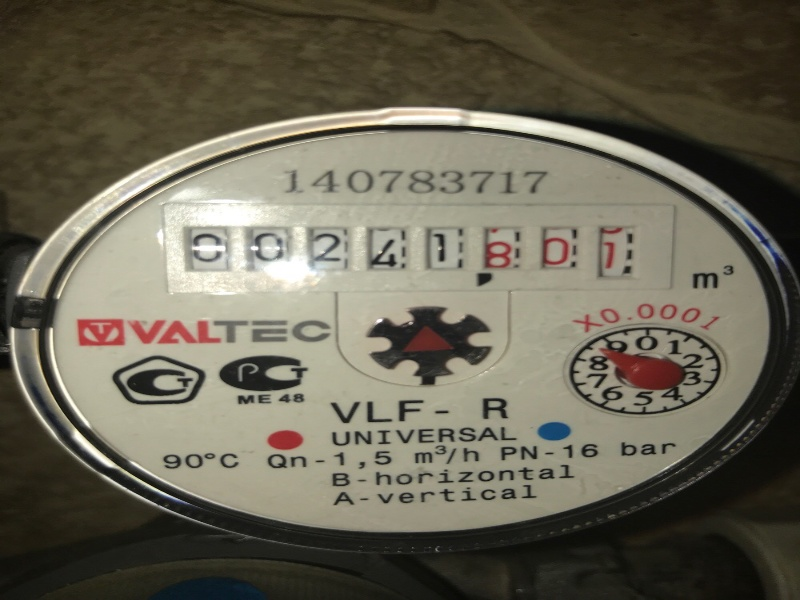meter: (166, 206, 662, 292)
